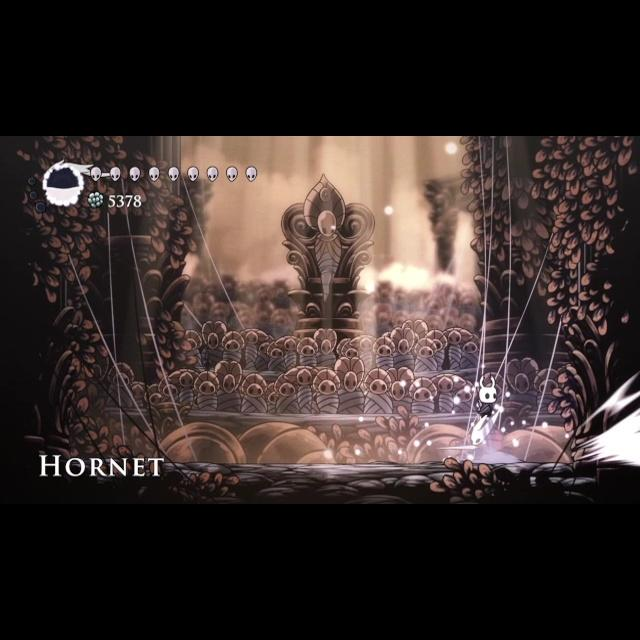Enemy: (436, 412, 520, 464)
Player: (471, 373, 502, 425)
